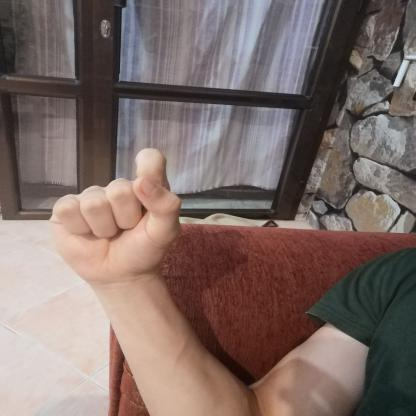FAA: (34, 140, 199, 294)
